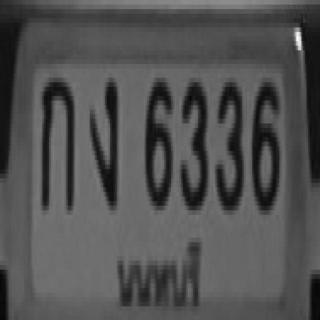A01: (39, 73, 73, 206)
A07: (88, 71, 117, 204)
N03: (213, 78, 242, 206), (180, 78, 207, 206)
N06: (144, 73, 171, 206), (251, 78, 278, 206)
P37: (111, 231, 202, 310)
